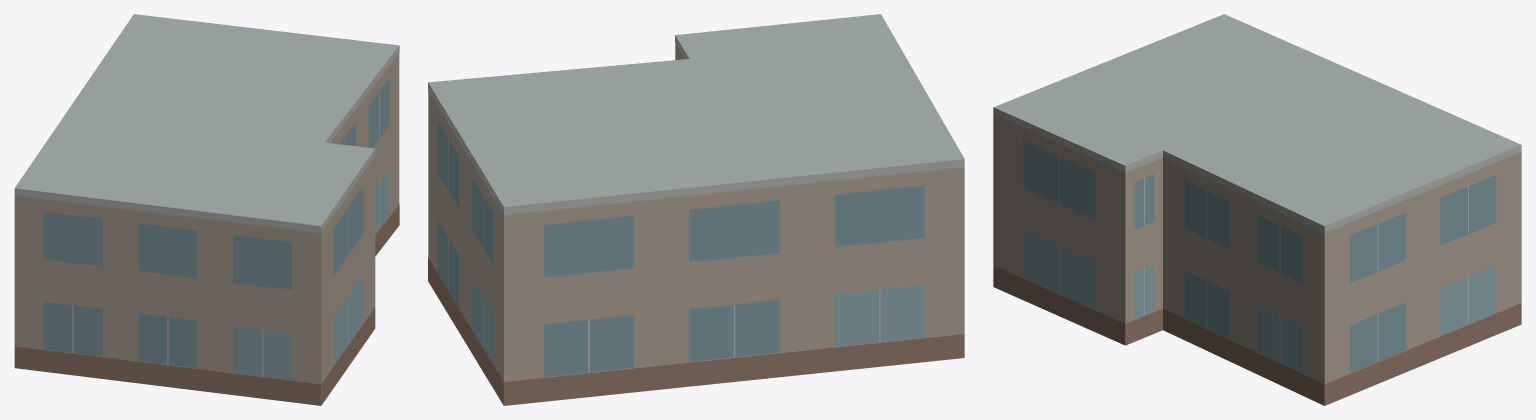
File: survey-upis-32618566.glb
3 renders of one model, left to right at view 1: azimuth 30°, elevation 25°; view 2: azimuth 150°, elevation 25°; view 3: azimuth 270°, elevation 25°, orthographic. The views are drawn at different scales.
Parts seen in each view (by area): view 1: survey-upis-32618566.tmp; view 2: survey-upis-32618566.tmp; view 3: survey-upis-32618566.tmp.
Boxes of the visible parts, left/top/right/bottom form: survey-upis-32618566.tmp: left=14, top=14, right=399, bottom=405; survey-upis-32618566.tmp: left=428, top=14, right=964, bottom=405; survey-upis-32618566.tmp: left=993, top=14, right=1521, bottom=405.
Bounding box in the file's own units: 15.46 × 6.1 × 16.26.
